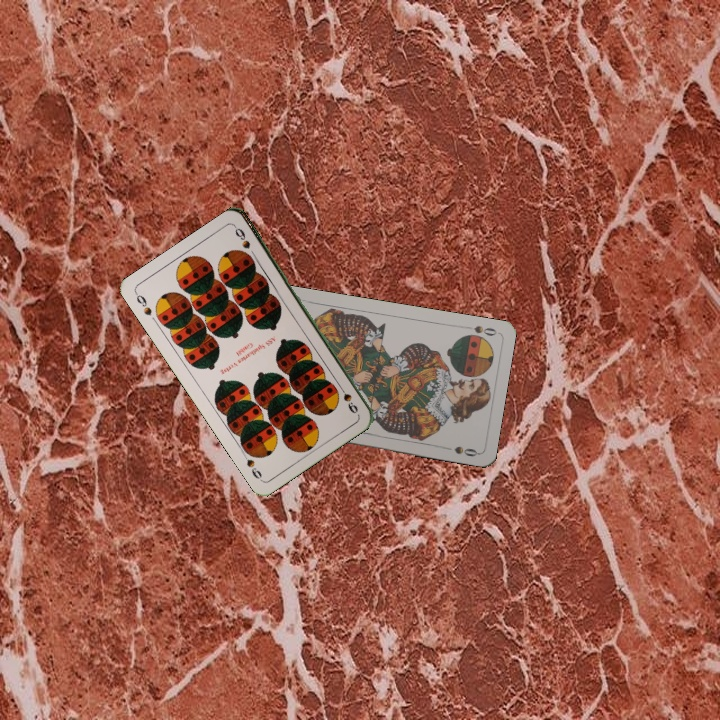S9: (334, 380, 361, 416), (131, 289, 154, 318)
SO: (470, 321, 499, 338)
